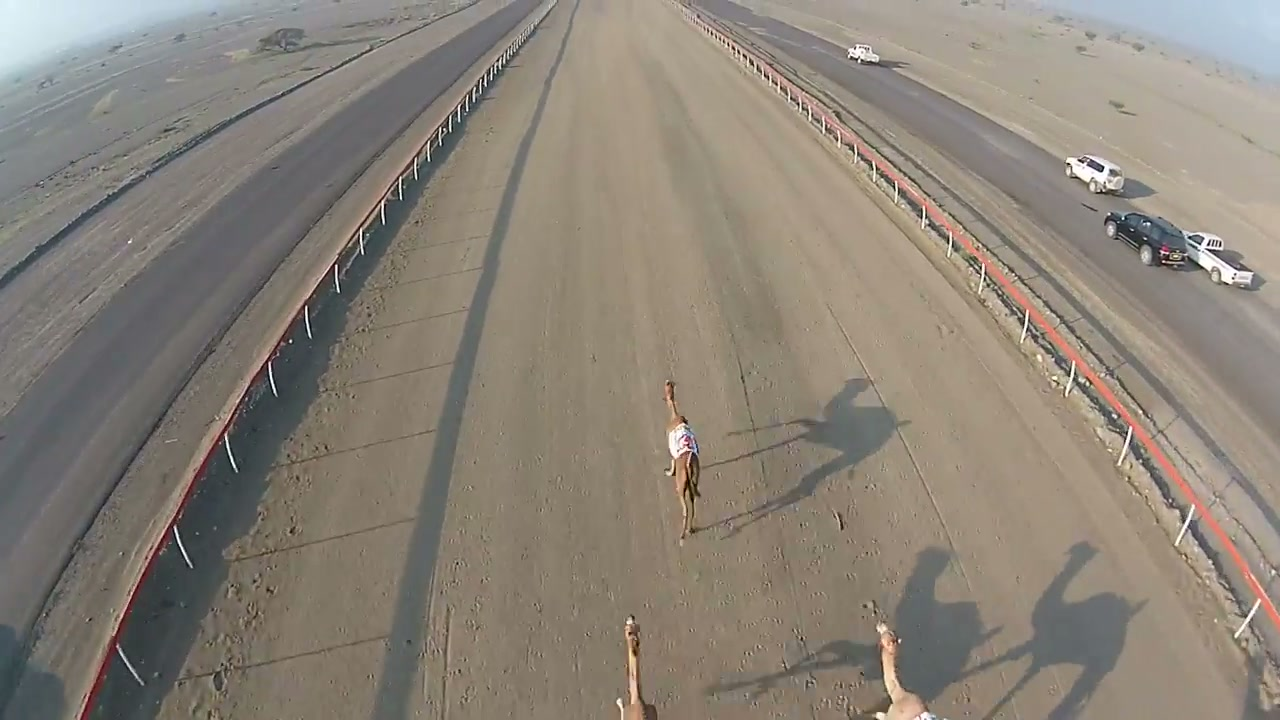animal_footprint: (724, 486, 882, 719)
